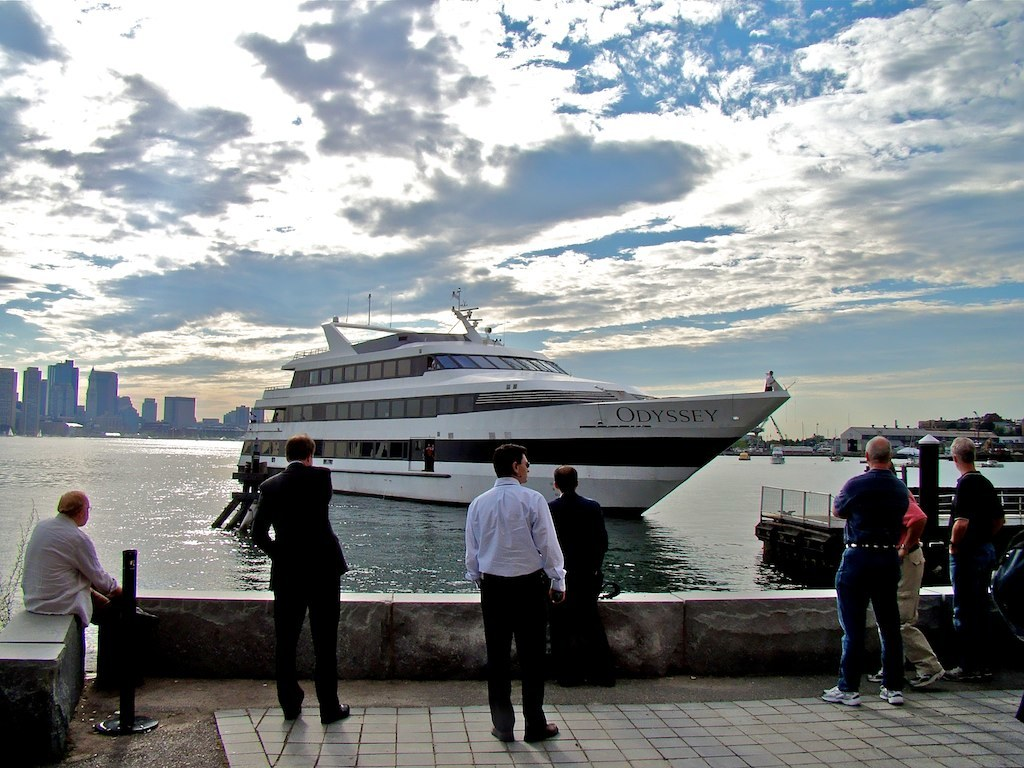boat: (213, 268, 797, 527)
